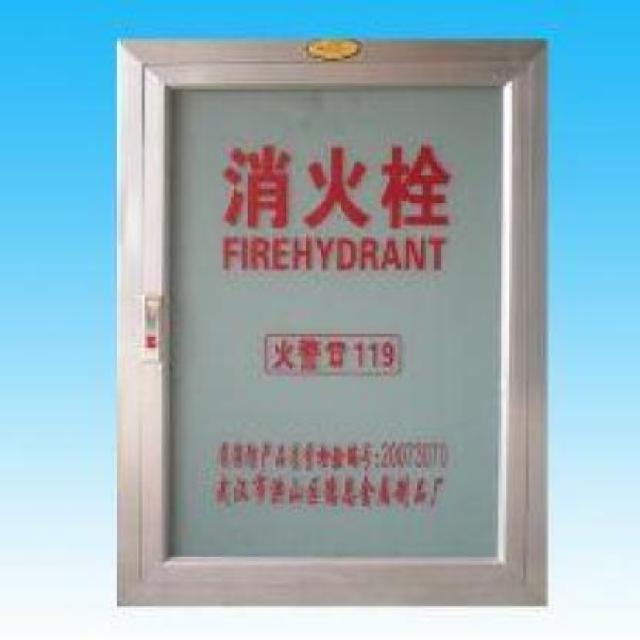firehydrant: (109, 29, 554, 613)
